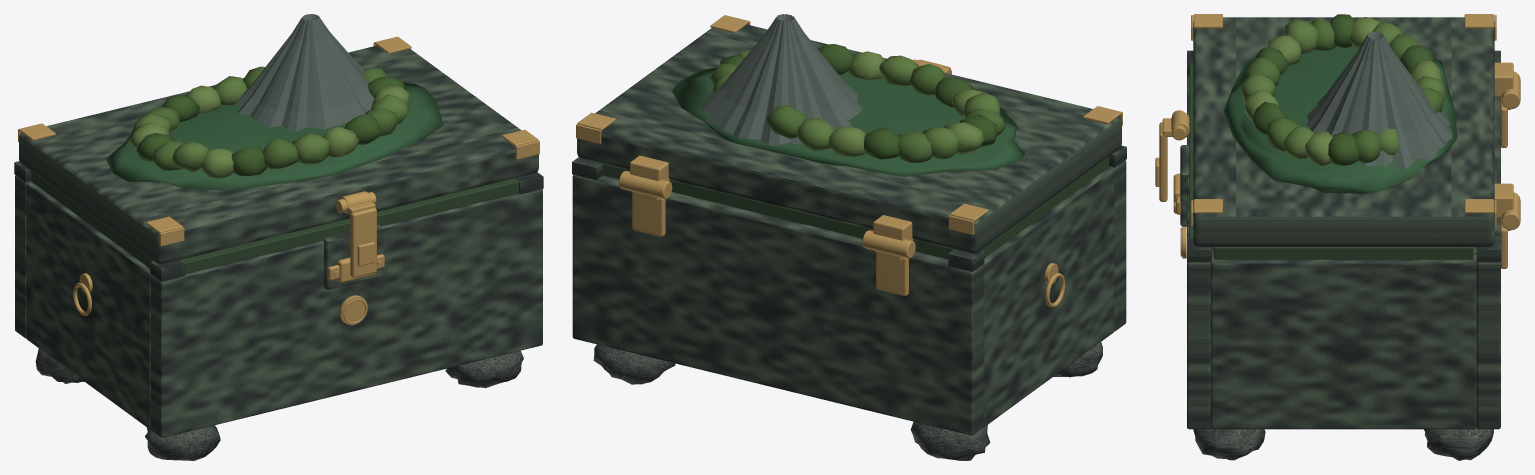
The model's file is costa-rica.glb.
The picture shows the model from 3 angles, left to right: view 1: azimuth 30°, elevation 25°; view 2: azimuth 150°, elevation 25°; view 3: azimuth 270°, elevation 25°; orthographic projection. The views are drawn at different scales.
Visible parts, largest first — view 1: Volcanic wall / front rear, Lid / polished slab, Volcanic wall / side, Rainforest / island, Arenal / cone, Mineral seam / long, Granite foot, Volcanic wall / front rear.001, Granite foot.002, Latch / lifting hasp, Cedar / clasp seat, Mineral seam / side (+17 smaller); view 2: Volcanic wall / front rear.001, Lid / polished slab, Volcanic wall / side, Arenal / cone, Rainforest / island, Mineral seam / long.001, Volcanic wall / front rear, Granite foot.001, Granite foot.003, Mineral seam / side, Hinge / fixed mount.001, Hinge / fixed mount (+20 smaller); view 3: Volcanic wall / side.001, Lid / polished slab, Rainforest / island, Arenal / cone, Volcanic wall / front rear.001, Volcanic wall / front rear, Mineral seam / side.001, Granite foot.002, Granite foot.003, Rainforest / canopy 0, Mineral seam / long, Rainforest / canopy 14 (+29 smaller).
Boxes of the visible parts, x1=… form: Volcanic wall / front rear: x1=151, y1=189, x2=542, y2=437; Lid / polished slab: x1=19, y1=45, x2=538, y2=264; Volcanic wall / side: x1=26, y1=182, x2=151, y2=429; Rainforest / island: x1=105, y1=82, x2=443, y2=190; Arenal / cone: x1=233, y1=14, x2=374, y2=131; Mineral seam / long: x1=179, y1=178, x2=518, y2=273; Granite foot: x1=145, y1=425, x2=220, y2=460; Volcanic wall / front rear.001: x1=15, y1=175, x2=31, y2=338; Granite foot.002: x1=445, y1=350, x2=523, y2=388; Latch / lifting hasp: x1=350, y1=208, x2=376, y2=277; Cedar / clasp seat: x1=323, y1=225, x2=383, y2=289; Mineral seam / side: x1=31, y1=171, x2=153, y2=268; Volcanic wall / front rear.001: x1=572, y1=174, x2=983, y2=435; Lid / polished slab: x1=577, y1=24, x2=1121, y2=253; Volcanic wall / side: x1=983, y1=167, x2=1114, y2=426; Arenal / cone: x1=699, y1=14, x2=862, y2=145; Rainforest / island: x1=671, y1=66, x2=1024, y2=176; Mineral seam / long.001: x1=603, y1=163, x2=953, y2=259; Volcanic wall / front rear: x1=1109, y1=160, x2=1126, y2=331; Granite foot.001: x1=910, y1=422, x2=990, y2=460; Granite foot.003: x1=593, y1=344, x2=675, y2=384; Mineral seam / side: x1=981, y1=156, x2=1108, y2=258; Hinge / fixed mount.001: x1=632, y1=191, x2=665, y2=236; Hinge / fixed mount: x1=876, y1=251, x2=908, y2=295; Volcanic wall / side.001: x1=1211, y1=254, x2=1476, y2=429; Lid / polished slab: x1=1193, y1=17, x2=1494, y2=246; Rainforest / island: x1=1223, y1=45, x2=1457, y2=193; Arenal / cone: x1=1306, y1=31, x2=1452, y2=169; Volcanic wall / front rear.001: x1=1476, y1=97, x2=1500, y2=429; Volcanic wall / front rear: x1=1187, y1=75, x2=1210, y2=429; Mineral seam / side.001: x1=1214, y1=247, x2=1473, y2=259; Granite foot.002: x1=1193, y1=427, x2=1265, y2=460; Granite foot.003: x1=1424, y1=427, x2=1493, y2=460; Rainforest / canopy 0: x1=1328, y1=131, x2=1359, y2=165; Mineral seam / long: x1=1189, y1=62, x2=1193, y2=237; Rainforest / canopy 14: x1=1285, y1=19, x2=1317, y2=53.
Size of the model in its own units: 3.79 by 3.19 by 2.88.
Materials: 10 (2 with a texture image).
